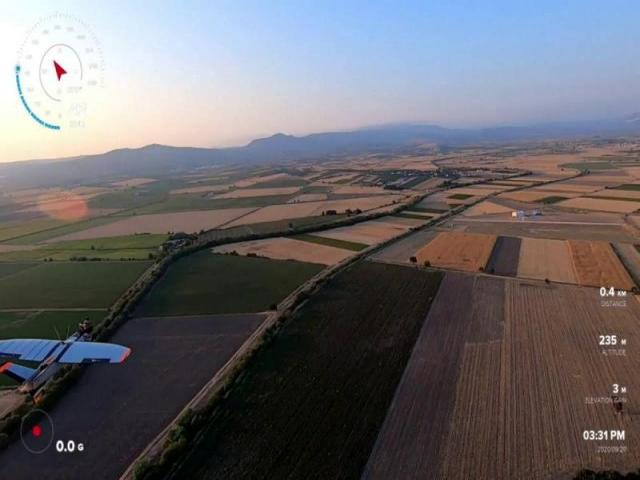hedef: (0, 311, 138, 411)
